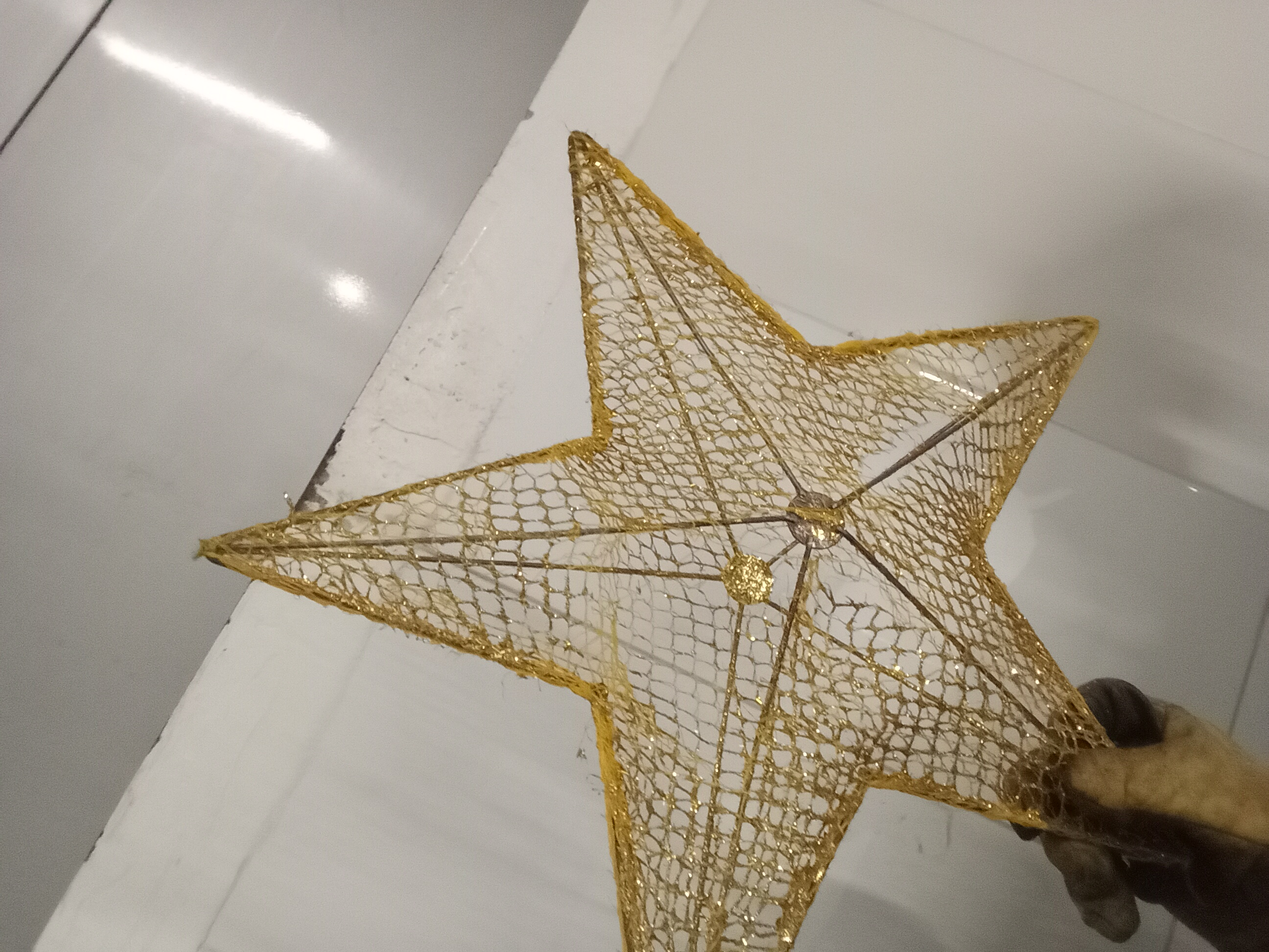Ordinario: (194, 130, 1099, 952)
